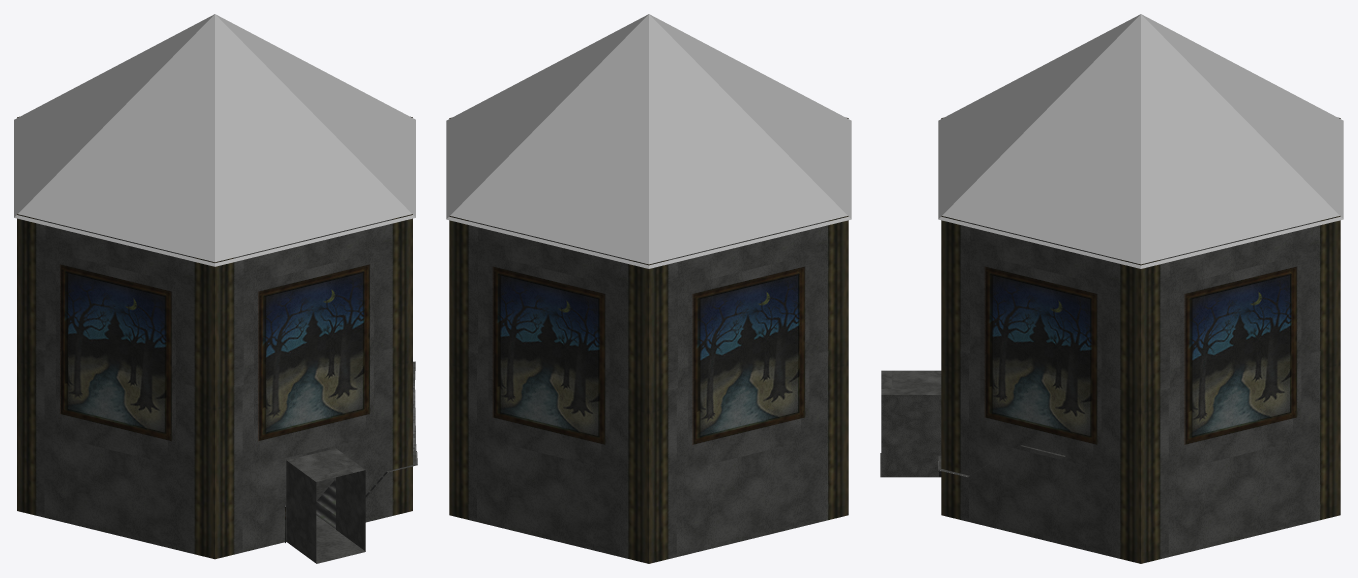
The model's file is level.fbx.
The picture shows the model from 3 angles, left to right: view 1: azimuth 30°, elevation 25°; view 2: azimuth 150°, elevation 25°; view 3: azimuth 270°, elevation 25°; orthographic projection.
Parts seen in each view (by area): view 1: Wall_Floor, Roof, pPlane3; view 2: Wall_Floor, Roof; view 3: Wall_Floor, Roof.
Boxes of the visible parts, left/top/right/bottom form: Wall_Floor: left=17, top=116, right=412, bottom=563; Roof: left=14, top=14, right=415, bottom=266; pPlane3: left=316, top=451, right=417, bottom=528; Wall_Floor: left=449, top=117, right=848, bottom=563; Roof: left=446, top=14, right=851, bottom=268; Wall_Floor: left=880, top=117, right=1340, bottom=563; Roof: left=938, top=14, right=1343, bottom=268.
Size of the model in its own units: 22.44 by 24.74 by 22.21.
